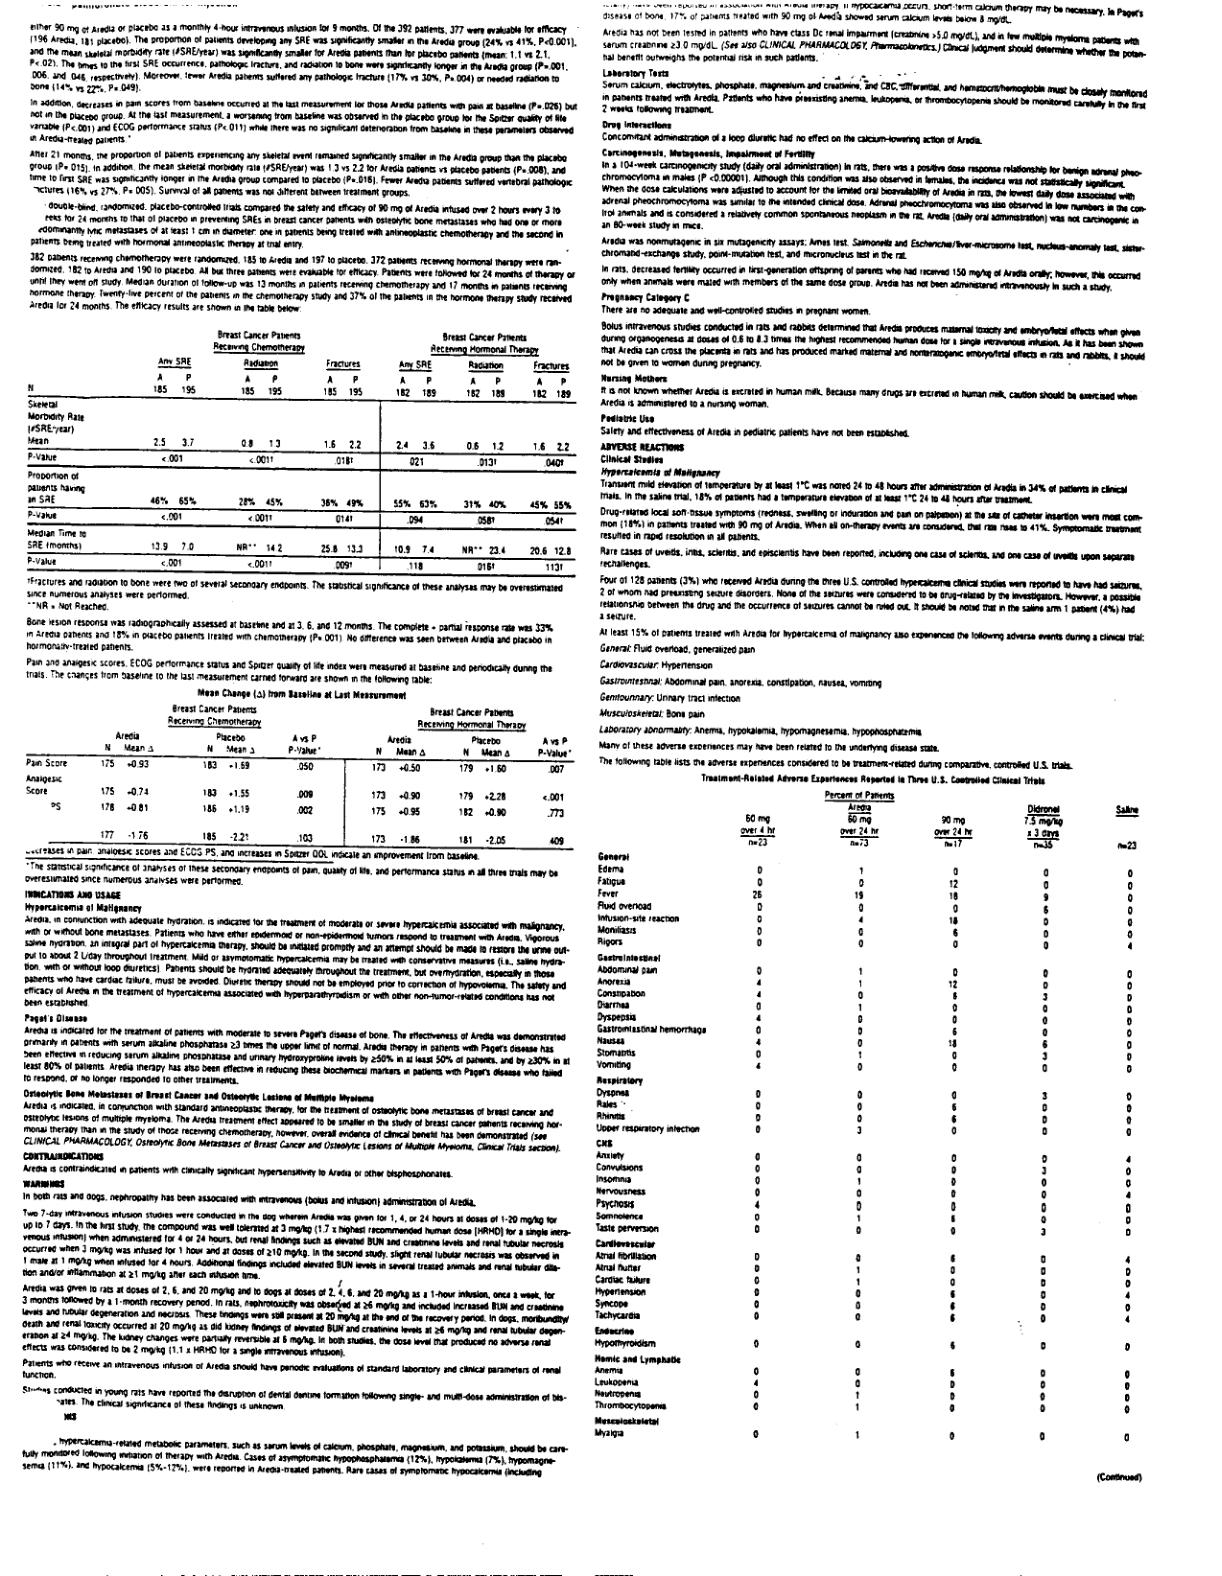nolines: (592, 791, 1145, 1446)
partial_lined_merged_cells: (20, 324, 583, 578), (20, 704, 580, 858)
